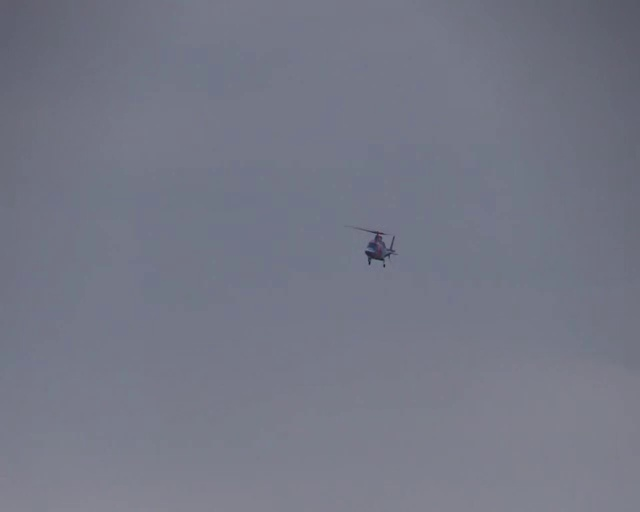HELICOPTER: (345, 224, 397, 268)
